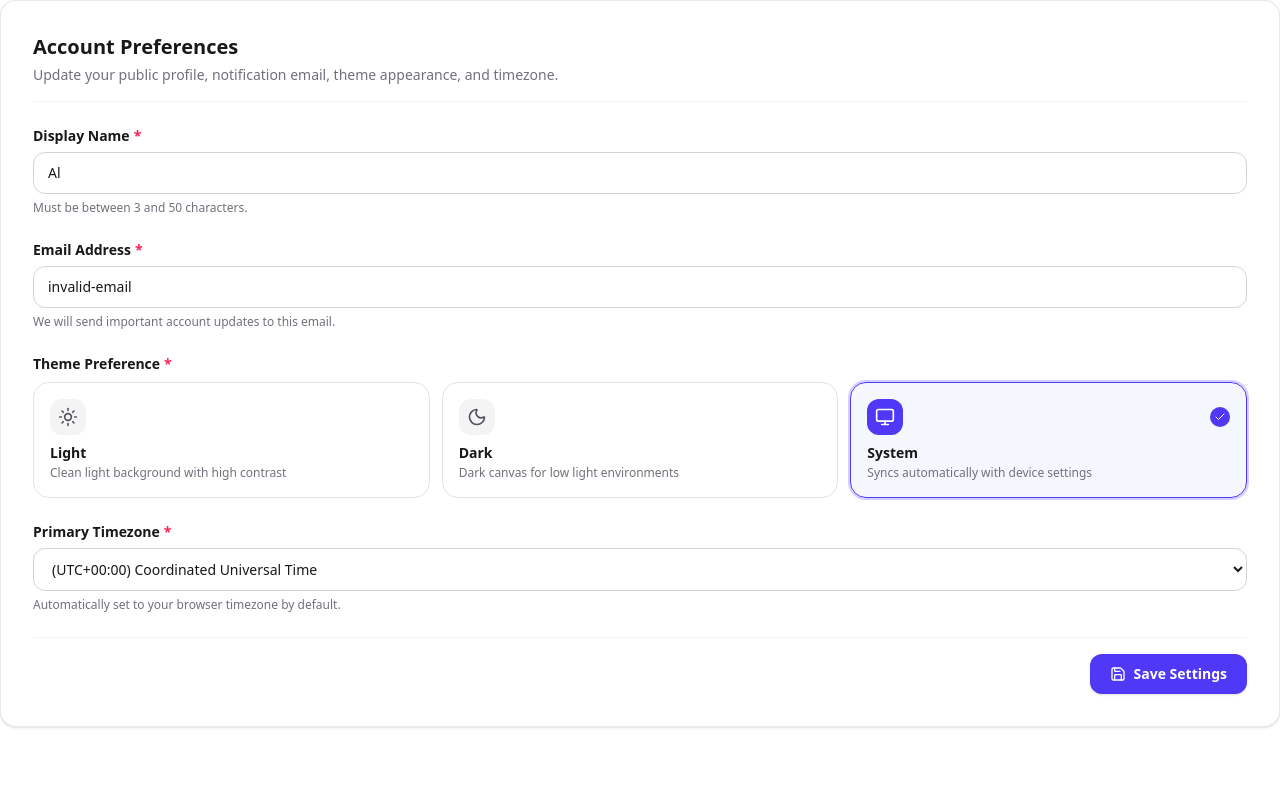
SettingsForm Component › displays inline validation errors when submitting invalid values
The image size is (1280, 800).
Step 1. Click the button "Save Settings" → [1168, 674], box [1090, 654, 1247, 694]
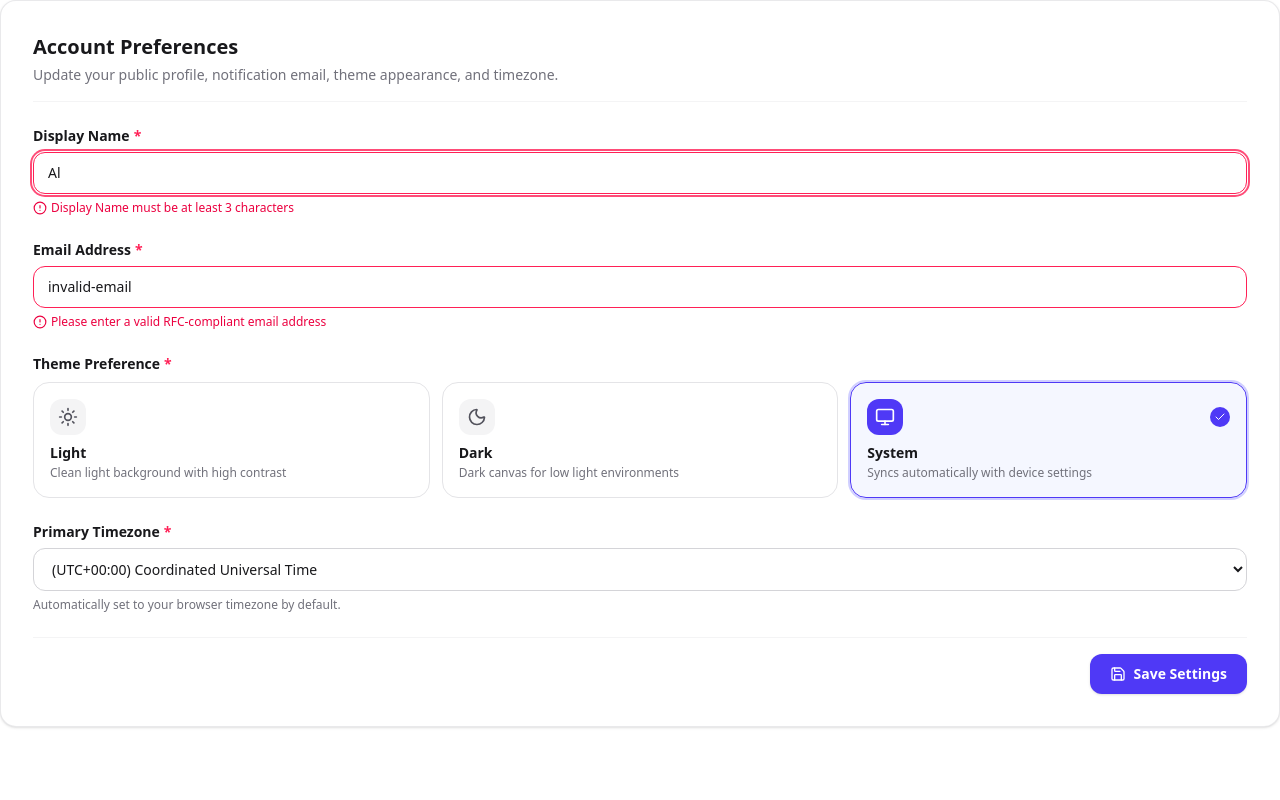
Result: the text "Display Name must be at least 3 characters" is shown at [51, 200, 294, 216]
Result: the text "Please enter a valid RFC-compliant email address" is shown at [51, 314, 326, 330]
